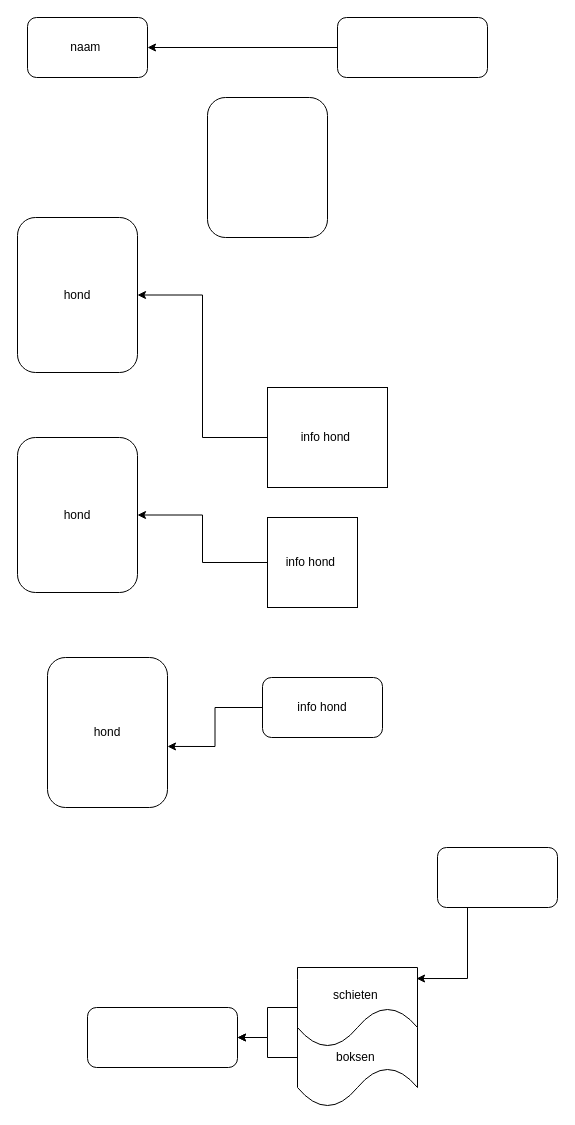
This 575x1125 diagram has some shape labels left out. Here are the shapes that lost their labels. From the top down, the centre of each, then its label:
At point (412, 47): "daan.vanhemert".
At point (267, 167): "info over mij zelf".
At point (497, 877): "filmpje".
At point (162, 1037): "hobby's".
